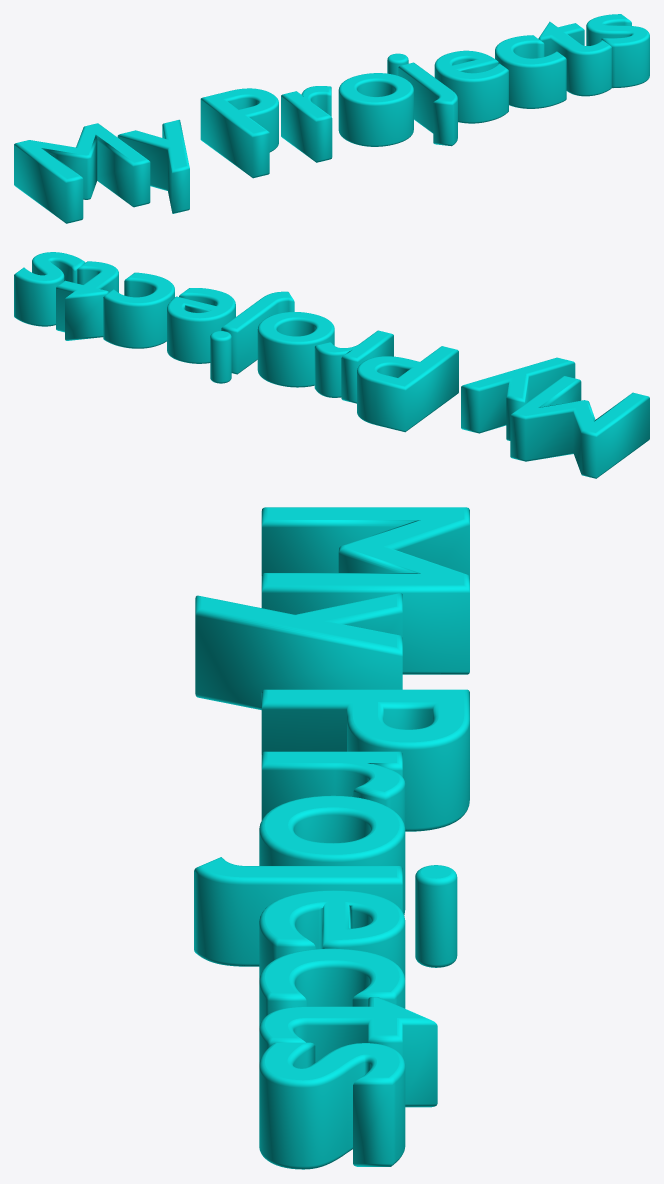
File: Text_Projects.glb
3 views of the same model, one above another, from view 1: azimuth 30°, elevation 25°; view 2: azimuth 150°, elevation 25°; view 3: azimuth 270°, elevation 25° (orthographic). The views are drawn at different scales.
Visible parts, largest first — view 1: Text; view 2: Text; view 3: Text.
Part boxes in pixels (x1=…): Text: x1=14, y1=14, x2=649, y2=223; Text: x1=14, y1=252, x2=649, y2=478; Text: x1=194, y1=507, x2=469, y2=1169.
Bounding box in the file's own units: 4.74 × 0.34 × 0.957.
